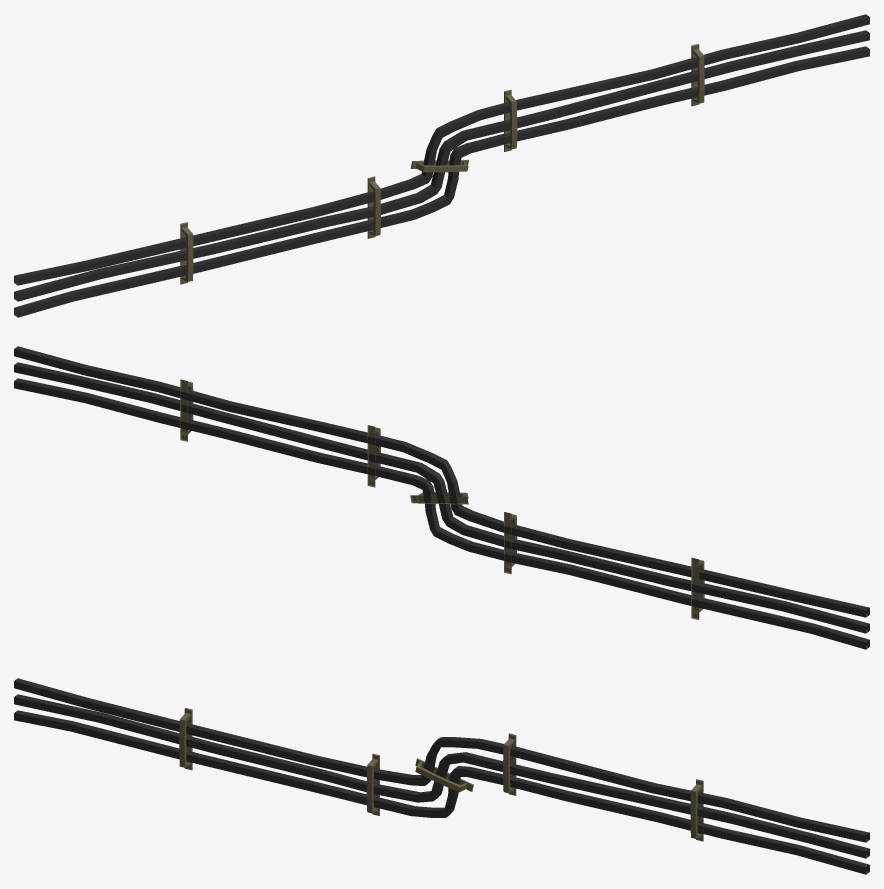
Rendered from SW_ENV_Wires3_StationWall_SBend_05m.fbx.
3 views of the same model, one above another, from view 1: azimuth 30°, elevation 25°; view 2: azimuth 150°, elevation 25°; view 3: azimuth 330°, elevation 25° (orthographic).
Visible parts, largest first — view 1: SW_ENV_Wires3_StationWall_SBend_05m; view 2: SW_ENV_Wires3_StationWall_SBend_05m; view 3: SW_ENV_Wires3_StationWall_SBend_05m.
Boxes of the visible parts, <box> form: SW_ENV_Wires3_StationWall_SBend_05m: <box>14,14,869,317</box>; SW_ENV_Wires3_StationWall_SBend_05m: <box>14,346,869,649</box>; SW_ENV_Wires3_StationWall_SBend_05m: <box>14,678,869,874</box>.
Size of the model in its own units: 500 by 64.12 by 7.06.
